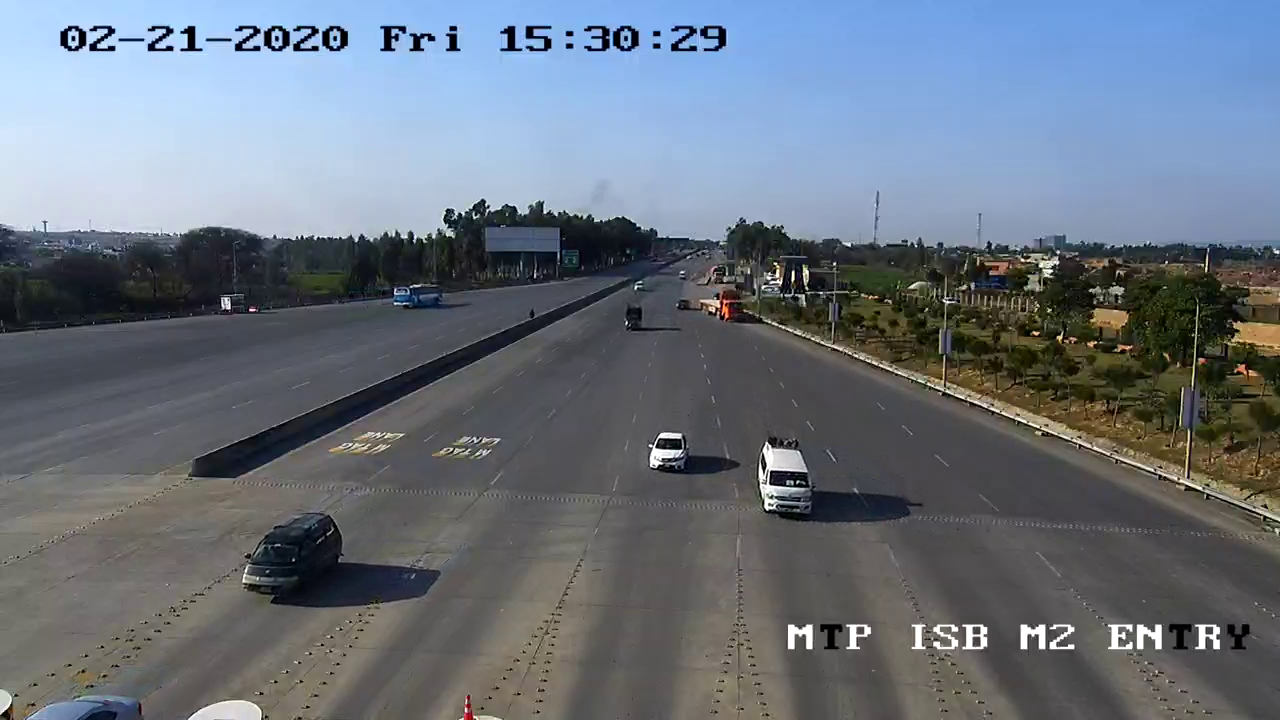f1: (642, 423, 692, 488)
f2: (232, 495, 354, 609), (748, 434, 817, 518)
